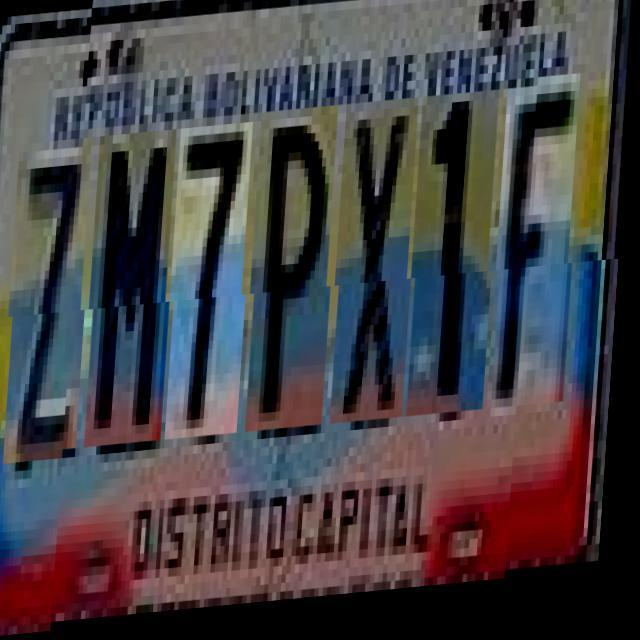1: (412, 100, 506, 426)
7: (171, 126, 259, 444)
F: (497, 94, 586, 428)
M: (90, 133, 183, 450)
P: (252, 111, 344, 438)
X: (336, 106, 426, 431)
Z: (10, 138, 98, 456)
